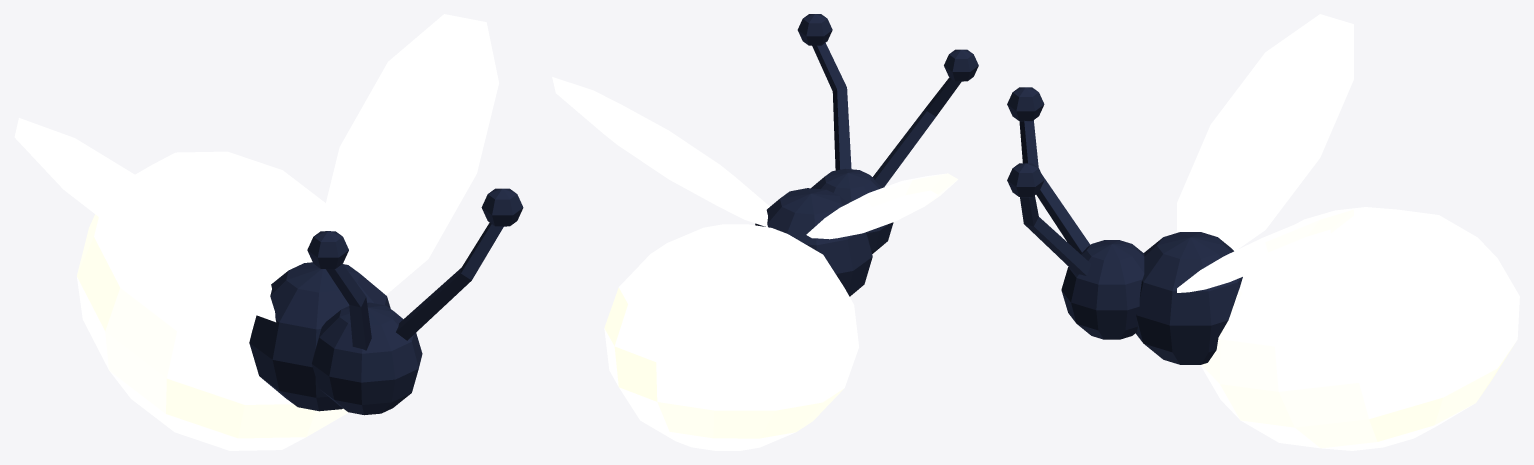
Rendered from Firefly.fbx.
The picture shows the model from 3 angles, left to right: view 1: azimuth 30°, elevation 25°; view 2: azimuth 150°, elevation 25°; view 3: azimuth 270°, elevation 25°; orthographic projection. The views are drawn at different scales.
Parts seen in each view (by area): view 1: Firefly; view 2: Firefly; view 3: Firefly.
Boxes of the visible parts, x1=… form: Firefly: x1=14, y1=14, x2=523, y2=450; Firefly: x1=552, y1=14, x2=978, y2=450; Firefly: x1=1007, y1=14, x2=1519, y2=450.
Size of the model in its own units: 0.26 by 0.19 by 0.2739.
